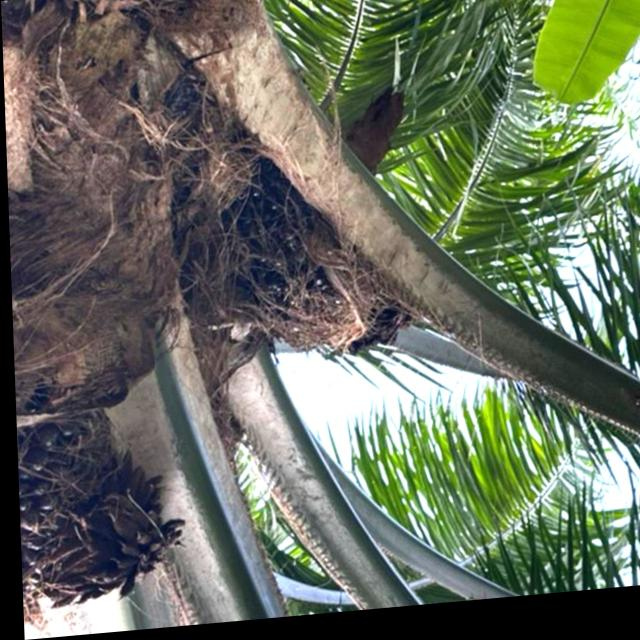unripe: (170, 121, 419, 389)
